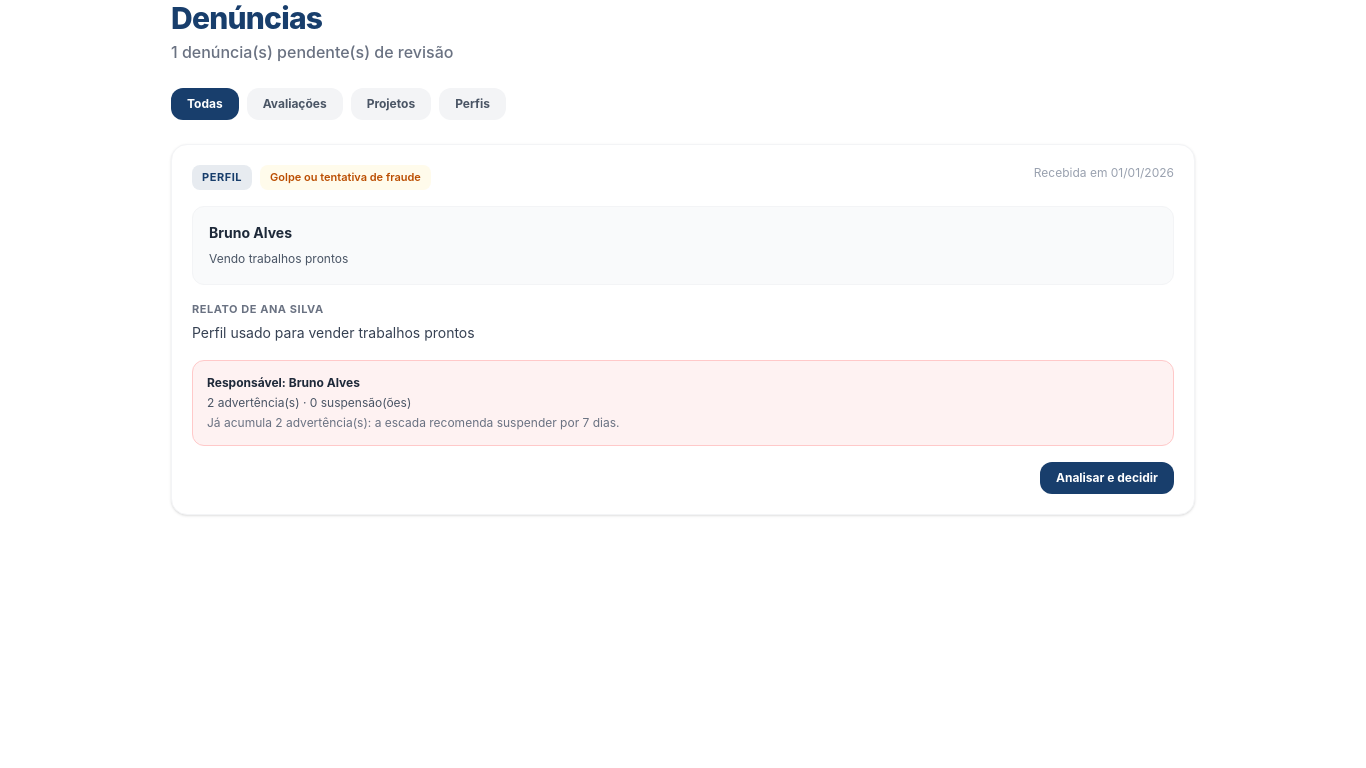
AdminDenuncias › pré-seleciona a medida sugerida pela escada ao abrir o julgamento
This screenshot has width=1366, height=768.
Check: the text "Responsável: Bruno Alves" is shown, box x1=207 y1=375 x2=360 y2=390
Click the button "Analisar e decidir".
click(1107, 478)  # box x1=1040 y1=462 x2=1174 y2=494
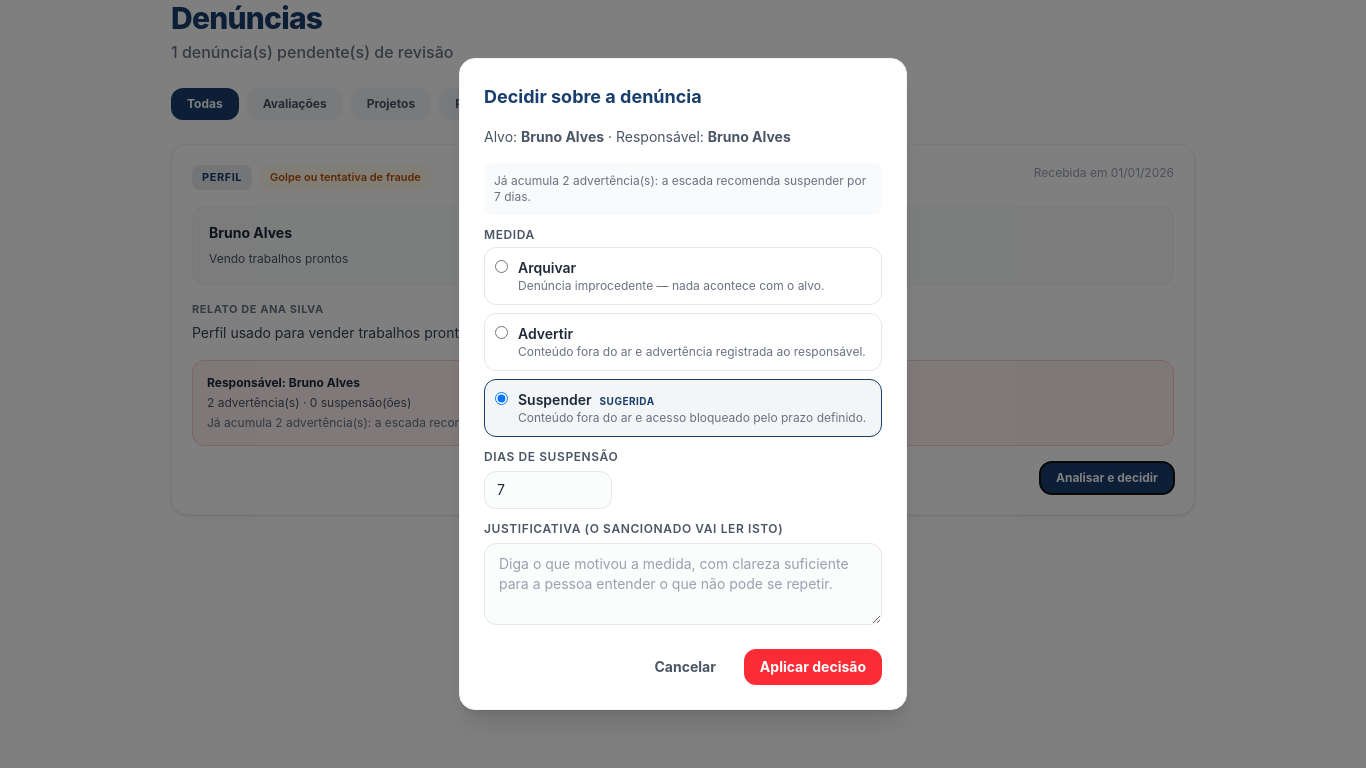
Check: the dialog is shown
Check: the radio button labelled "Suspender" is checked, box x1=495 y1=392 x2=508 y2=405
Check: the number field holds "7", box x1=484 y1=471 x2=612 y2=509
